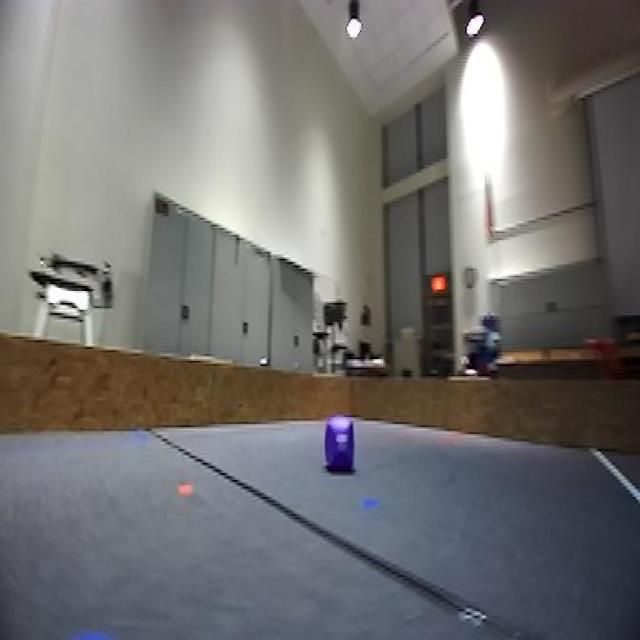frc_cube: (322, 417, 357, 475)
